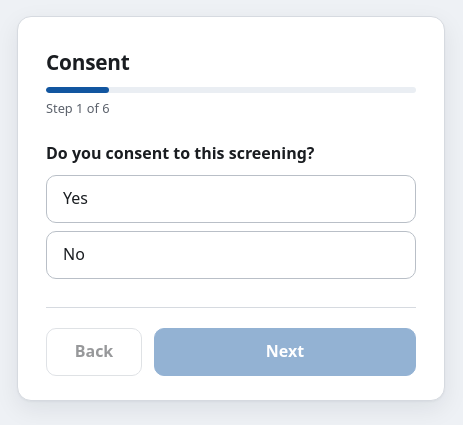
Scenario: App › lets a "No" (false) answer satisfy the Next gate
Expected: the text "Do you consent to this screening?" is shown, [46,142,314,164]
Expected: the button "Next" is disabled, [154,328,416,376]
Step 1. Click the button "No" → {"x": 74, "y": 254}, box [46,231,416,279]
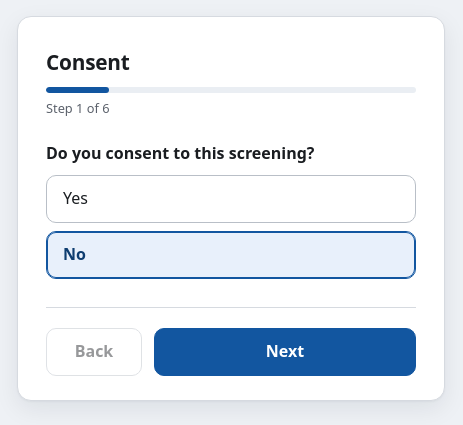
Now the button "Next" is enabled, box [154,328,416,376]
